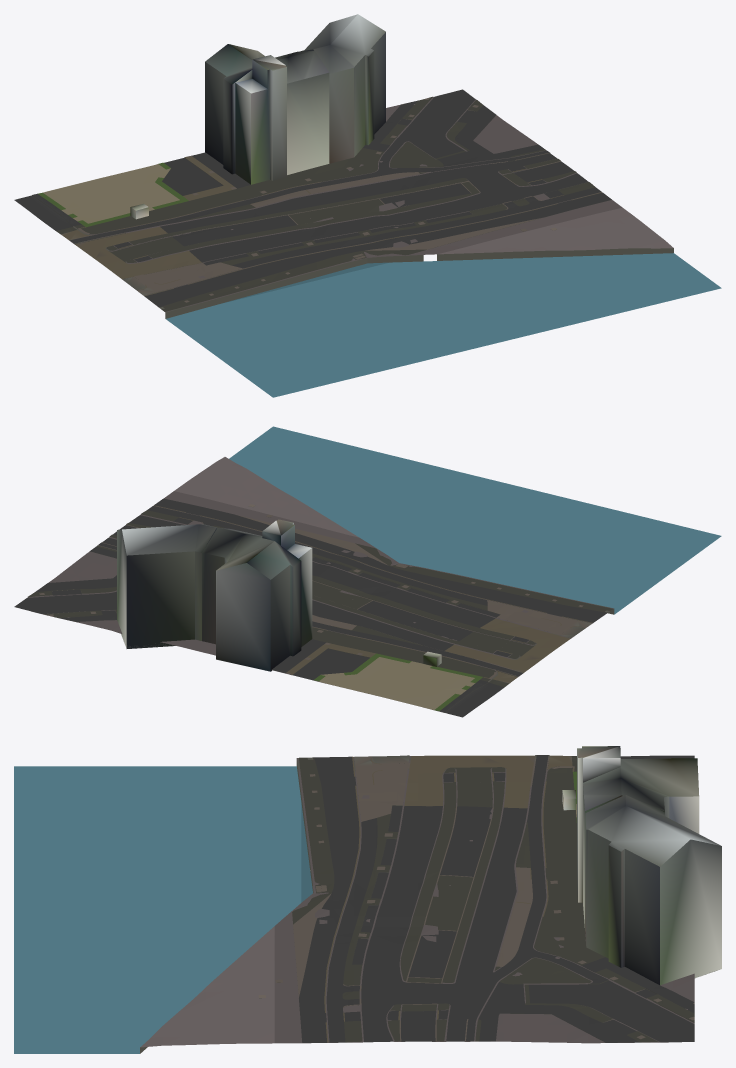
3 views of the same model, one above another, from view 1: azimuth 30°, elevation 25°; view 2: azimuth 150°, elevation 25°; view 3: azimuth 270°, elevation 25° (orthographic). The views are drawn at different scales.
Parts seen in each view (by area): view 1: append:c_p00_m08, c_p00_m08; view 2: append:c_p00_m08, c_p00_m08; view 3: append:c_p00_m08, c_p00_m08.
Part boxes in pixels (x1=…): append:c_p00_m08: x1=14, y1=14, x2=622, y2=312; c_p00_m08: x1=165, y1=109, x2=721, y2=397; append:c_p00_m08: x1=14, y1=491, x2=613, y2=717; c_p00_m08: x1=52, y1=426, x2=721, y2=673; append:c_p00_m08: x1=274, y1=746, x2=721, y2=1043; c_p00_m08: x1=14, y1=758, x2=649, y2=1053.
Size of the model in its own units: 128 by 32.14 by 133.
